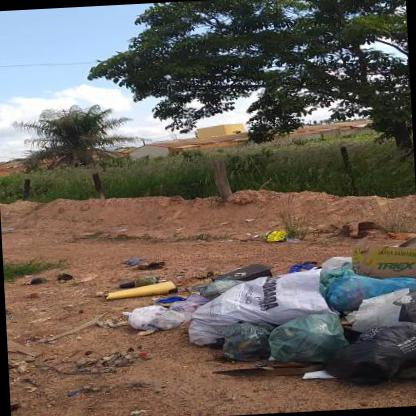lixo: (103, 253, 415, 392)
